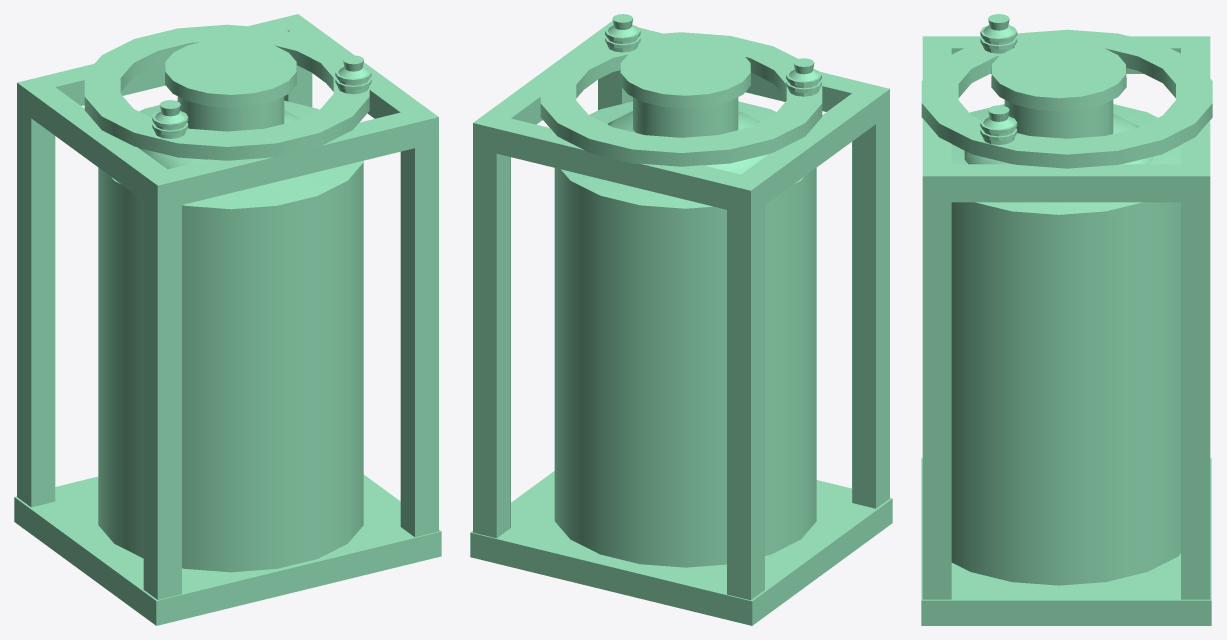
File: SM_Capacitor.fbx
3 renders of one model, left to right at view 1: azimuth 30°, elevation 25°; view 2: azimuth 150°, elevation 25°; view 3: azimuth 270°, elevation 25°, orthographic. The views are drawn at different scales.
Visible parts, largest first — view 1: Capacitor; view 2: Capacitor; view 3: Capacitor.
Boxes of the visible parts, x1=… form: Capacitor: x1=14, y1=14, x2=441, y2=625; Capacitor: x1=470, y1=14, x2=892, y2=625; Capacitor: x1=921, y1=14, x2=1212, y2=625.
Size of the model in its own units: 46.13 by 74.32 by 39.99.
